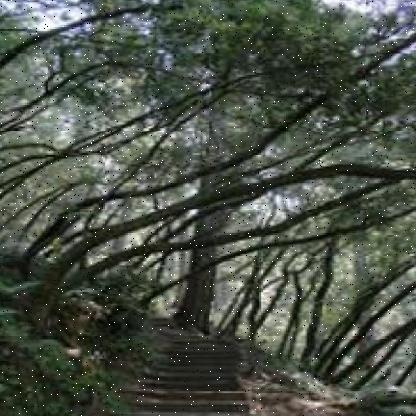stair_up: (96, 311, 276, 416)
